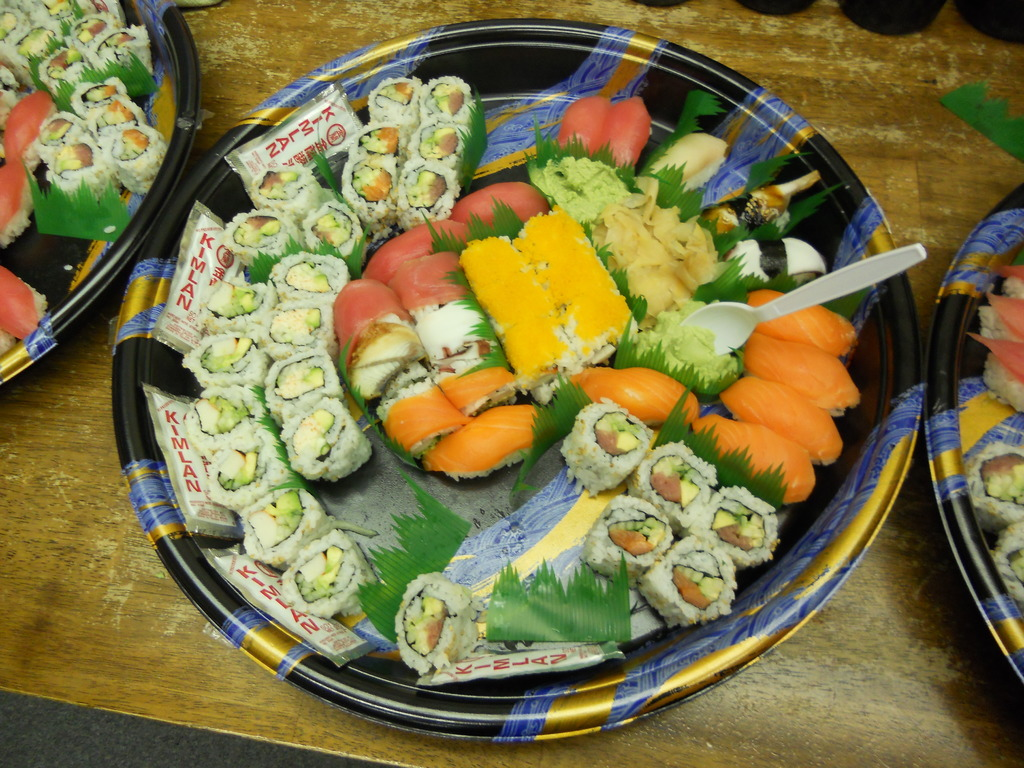sushi: (184, 74, 847, 668), (0, 1, 170, 246), (970, 447, 1023, 540), (970, 338, 1023, 409), (0, 269, 44, 352), (993, 524, 1023, 609), (365, 83, 414, 135), (982, 290, 1023, 335), (1002, 269, 1023, 302)
